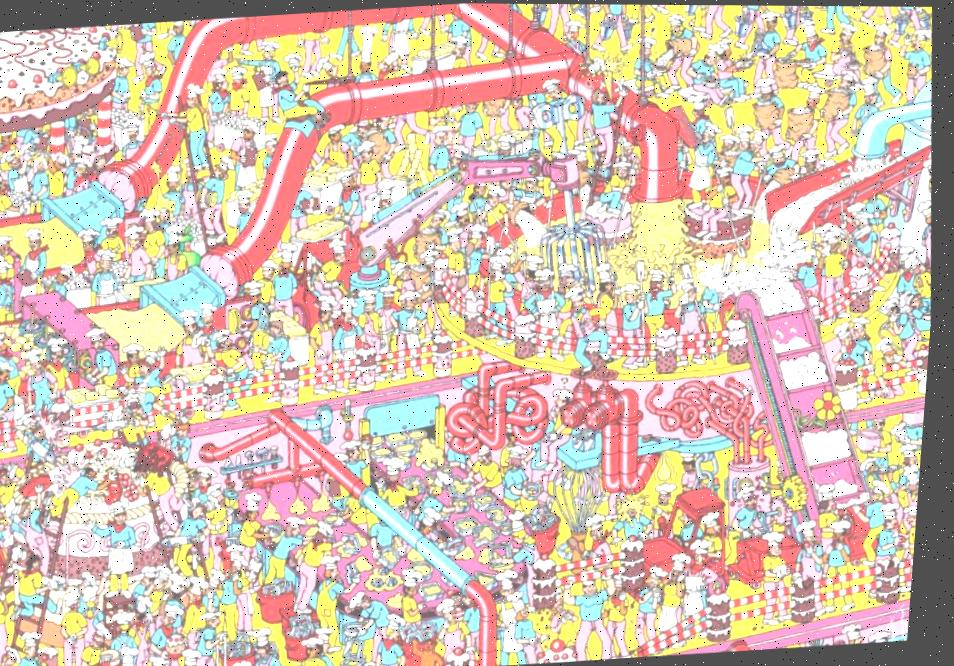waldo: (445, 125, 461, 144)
